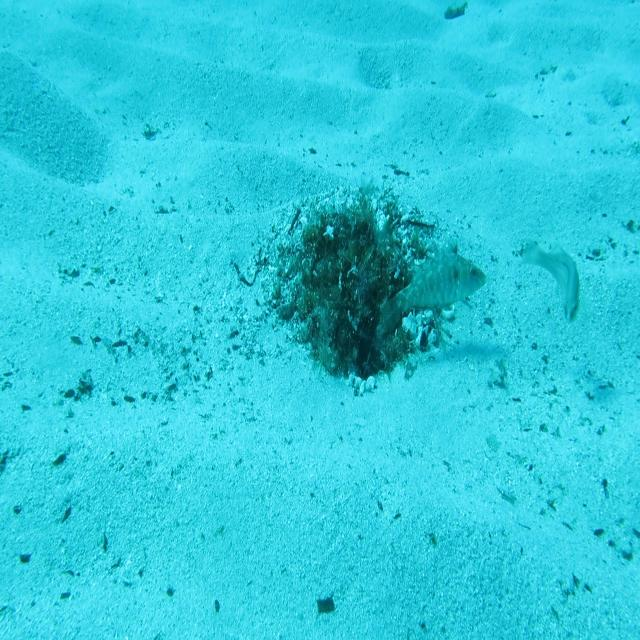MAF: (380, 235, 488, 337)
core_nest: (327, 218, 372, 280)
female: (521, 234, 581, 328)
nest: (253, 157, 472, 404)
vegetation: (443, 3, 468, 23), (316, 596, 336, 616)
